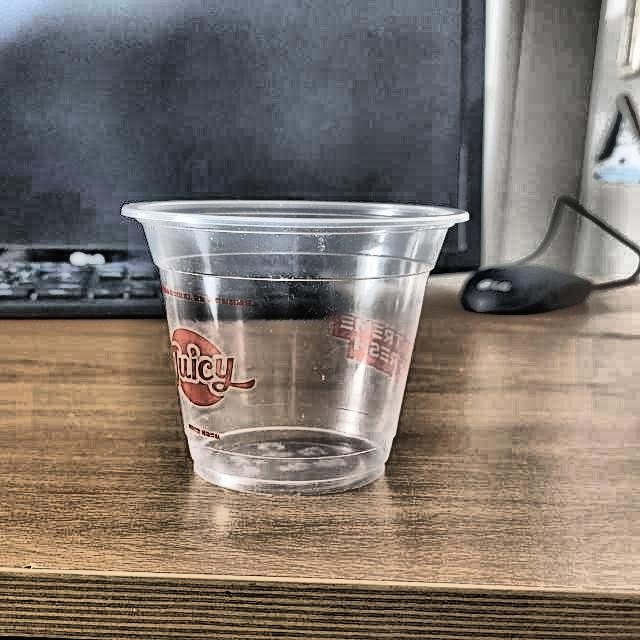plastic cup: (122, 198, 476, 492)
